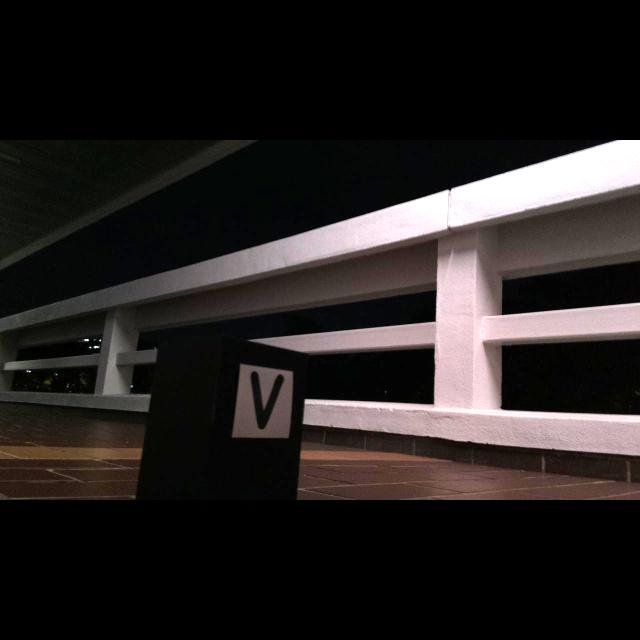V: (250, 371, 284, 428)
